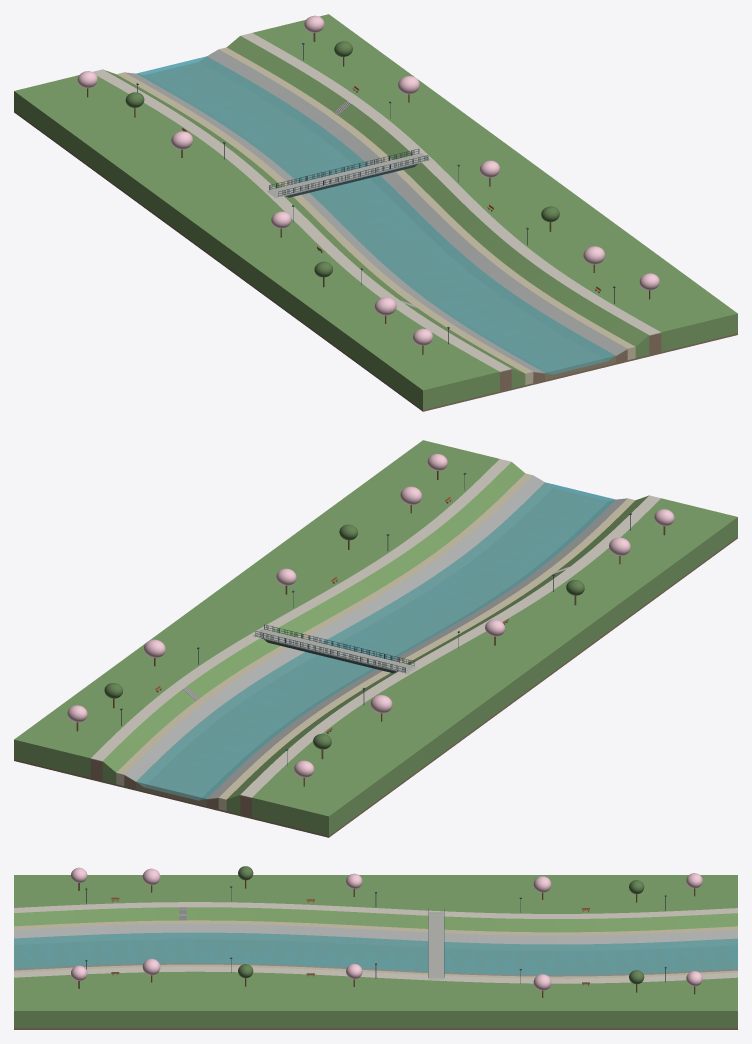
Rendered from river_demo.glb.
3 views of the same model, one above another, from view 1: azimuth 30°, elevation 25°; view 2: azimuth 150°, elevation 25°; view 3: azimuth 270°, elevation 25° (orthographic). The views are drawn at different scales.
Parts seen in each view (by area): view 1: Banks:left:outer_green, Banks:right:outer_green, River:water:surface_volume, River:bed:channel, Banks:right:grass_slope, Banks:right:stone_revetment, Paths:right:paving, Paths:left:paving, River:bed:right_submerged_slope, Banks:right:waterside_platform, Banks:left:waterside_platform, Banks:left:stone_revetment (+4 smaller); view 2: Banks:left:outer_green, Banks:right:outer_green, River:water:surface_volume, River:bed:channel, Banks:right:grass_slope, Banks:right:stone_revetment, Paths:right:paving, Paths:left:paving, River:bed:right_submerged_slope, Banks:left:waterside_platform, Banks:right:waterside_platform, Banks:left:stone_revetment (+4 smaller); view 3: Banks:right:outer_green, Banks:left:outer_green, River:water:surface_volume, River:bed:channel, Banks:left:grass_slope, Banks:left:stone_revetment, River:bed:left_submerged_slope, Paths:left:paving, Paths:right:paving, Banks:left:waterside_platform, Banks:right:waterside_platform, Terrain:base:soil_block (+2 smaller).
Part boxes in pixels (<box>): Banks:left:outer_green: <box>14,75,499,409</box>; Banks:right:outer_green: <box>252,14,737,351</box>; River:water:surface_volume: <box>136,56,615,374</box>; River:bed:channel: <box>144,62,607,378</box>; Banks:right:grass_slope: <box>226,36,649,357</box>; Banks:right:stone_revetment: <box>207,49,627,355</box>; Paths:right:paving: <box>240,33,661,335</box>; Paths:left:paving: <box>92,69,511,372</box>; River:bed:right_submerged_slope: <box>199,56,615,364</box>; Banks:right:waterside_platform: <box>219,47,635,359</box>; Banks:left:waterside_platform: <box>116,72,533,384</box>; Banks:left:stone_revetment: <box>125,72,544,373</box>; Banks:left:outer_green: <box>252,498,737,835</box>; Banks:right:outer_green: <box>14,440,499,777</box>; River:water:surface_volume: <box>136,482,615,800</box>; River:bed:channel: <box>144,488,607,804</box>; Banks:right:grass_slope: <box>102,462,525,783</box>; Banks:right:stone_revetment: <box>124,475,544,781</box>; Paths:right:paving: <box>90,459,511,761</box>; Paths:left:paving: <box>240,495,660,798</box>; River:bed:right_submerged_slope: <box>136,482,552,790</box>; Banks:left:waterside_platform: <box>218,498,635,810</box>; Banks:right:waterside_platform: <box>116,473,532,785</box>; Banks:left:stone_revetment: <box>207,498,627,799</box>; Banks:right:outer_green: <box>14,971,737,1028</box>; Banks:left:outer_green: <box>14,875,737,913</box>; River:water:surface_volume: <box>14,932,737,974</box>; River:bed:channel: <box>14,939,737,974</box>; Banks:left:grass_slope: <box>14,907,737,932</box>; Banks:left:stone_revetment: <box>14,924,737,944</box>; River:bed:left_submerged_slope: <box>14,933,737,950</box>; Paths:left:paving: <box>14,902,737,918</box>; Paths:right:paving: <box>14,966,737,983</box>; Banks:left:waterside_platform: <box>14,920,737,935</box>; Banks:right:waterside_platform: <box>14,964,737,978</box>; Terrain:base:soil_block: <box>14,1028,737,1029</box>.
Bounding box in the file's own units: 80 × 11.37 × 180.
